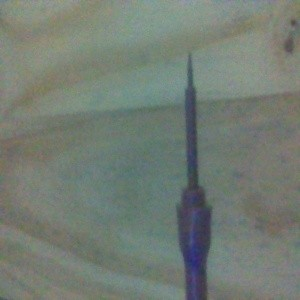solder: (175, 51, 213, 300)
